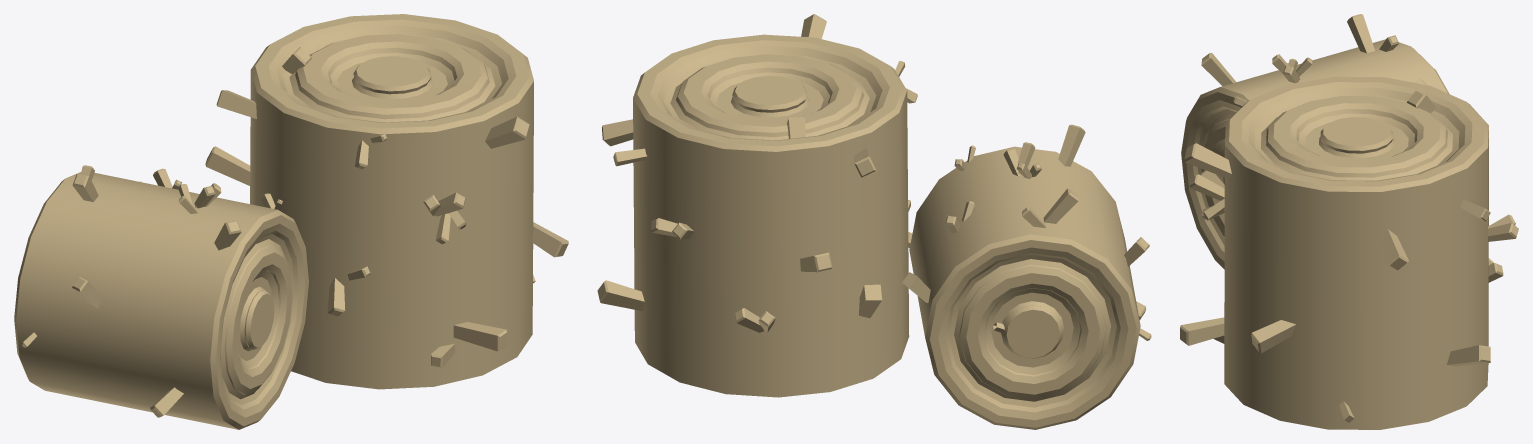
Rendered from haystack.glb.
3 renders of one model, left to right at view 1: azimuth 30°, elevation 25°; view 2: azimuth 150°, elevation 25°; view 3: azimuth 270°, elevation 25°, orthographic. The views are drawn at different scales.
Parts seen in each view (by area): view 1: haystack; view 2: haystack; view 3: haystack.
Part boxes in pixels (left/top/right/bottom): haystack: left=14, top=14, right=568, bottom=429; haystack: left=597, top=14, right=1151, bottom=429; haystack: left=1180, top=14, right=1518, bottom=429.
Size of the model in its own units: 2.28 by 1.1 by 1.33.
